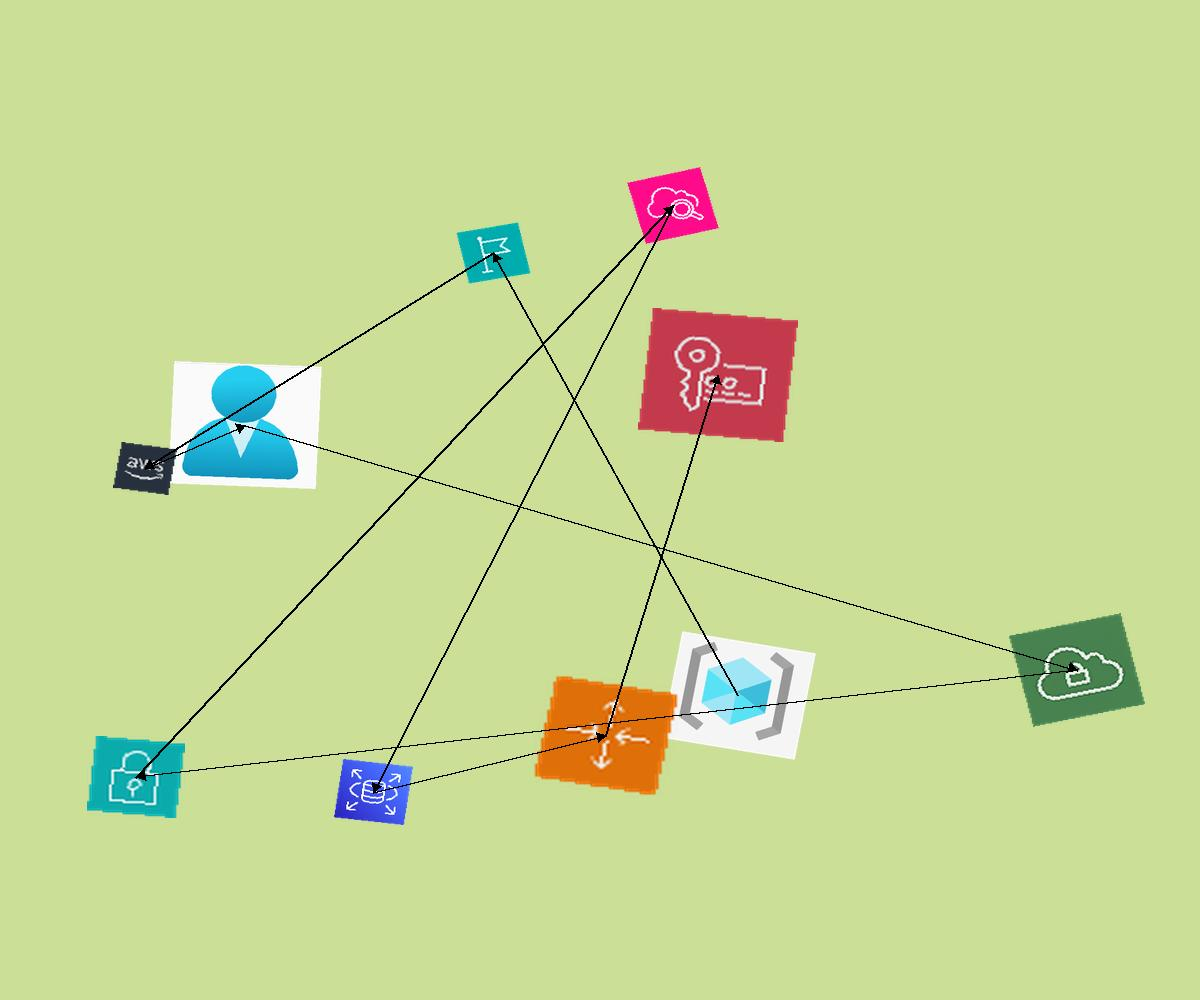AWS-Cloud-logo: (113, 442, 177, 495)
AWS-CloudWatch: (627, 167, 719, 244)
AWS-Key-Management-Service: (638, 308, 798, 442)
AWS-Private-subnet: (87, 736, 185, 818)
AWS-Private_vpc: (1009, 613, 1145, 727)
AWS-RDS: (334, 759, 413, 825)
AWS-Region: (456, 222, 531, 284)
AWS-Scaling-group: (532, 674, 680, 797)
Azure_resource_group: (661, 631, 816, 760)
Azure_users: (168, 361, 322, 489)
